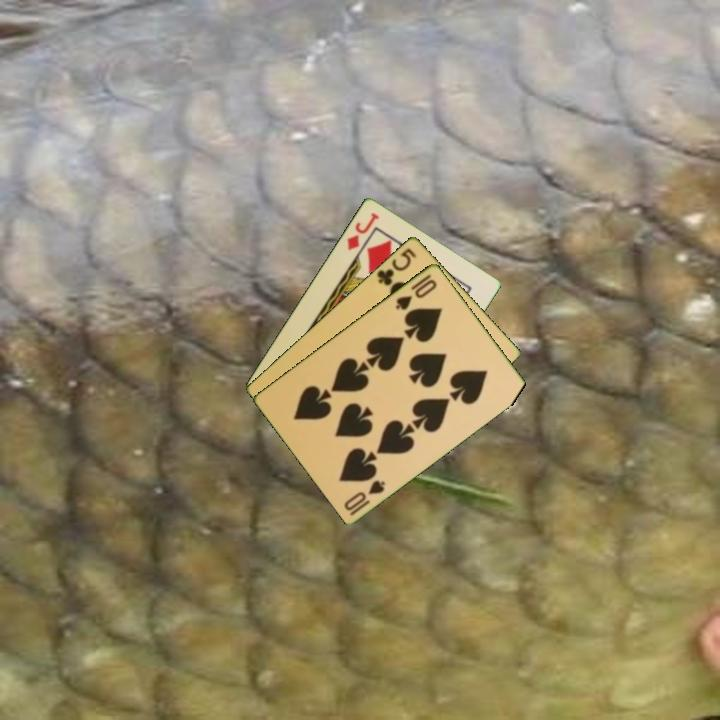10s: (392, 270, 440, 313), (340, 476, 388, 518)
5c: (373, 244, 419, 289)
Jd: (343, 209, 382, 253)
